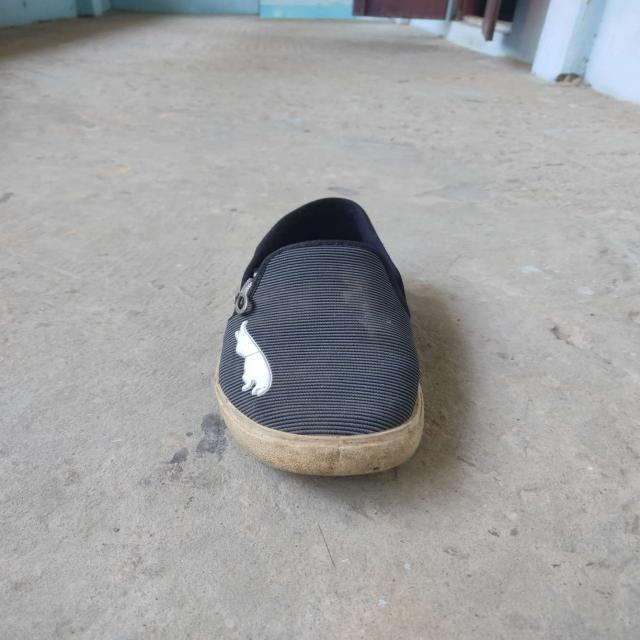shoe: (213, 197, 428, 478)
